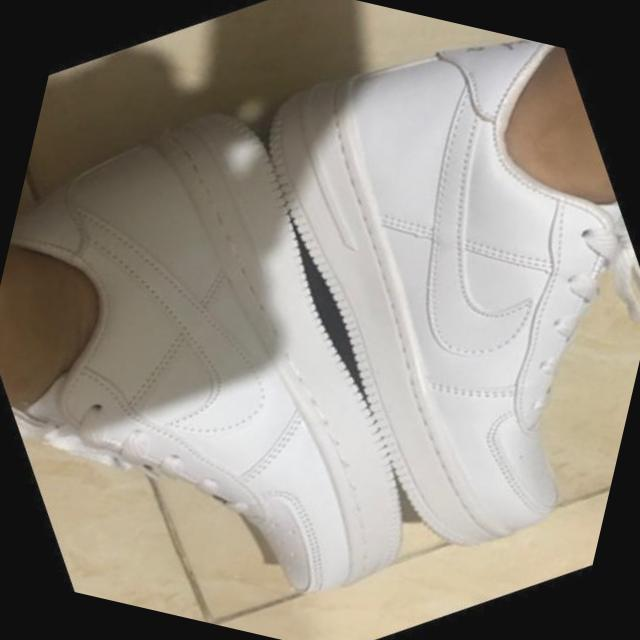nike_fake_airforce: (0, 38, 520, 640), (151, 0, 640, 613)
